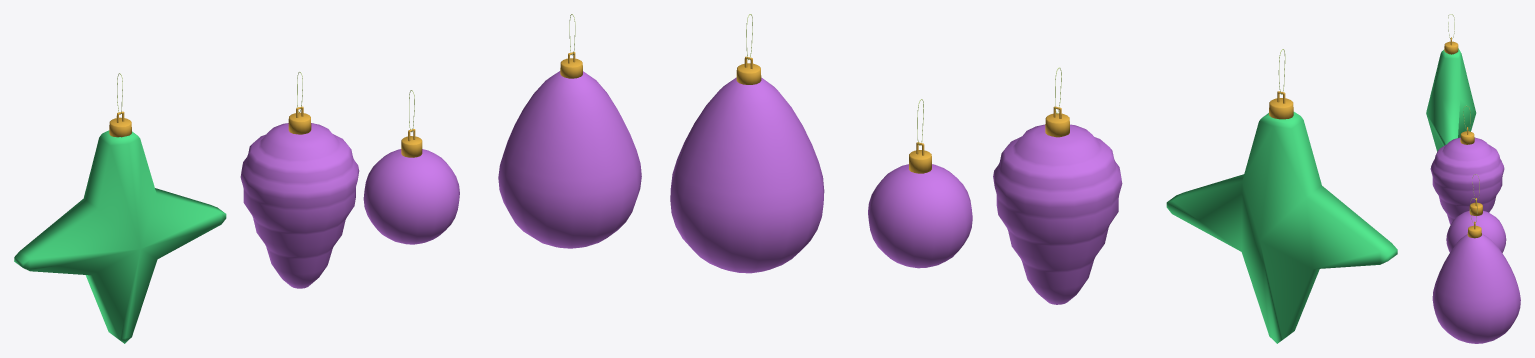
File: toystar.fbx_Collection.fbx
The picture shows the model from 3 angles, left to right: view 1: azimuth 30°, elevation 25°; view 2: azimuth 150°, elevation 25°; view 3: azimuth 270°, elevation 25°; orthographic projection. The views are drawn at different scales.
Visible parts, largest first — view 1: baloon, STAR, christmastoy1, christmastoy, kant.002, kant.001; view 2: baloon, STAR, christmastoy1, christmastoy, kant.002, kant.001, kant.003; view 3: baloon, christmastoy1, STAR, christmastoy, kant.002, kant.004, kant.001, kant.003.
Boxes of the visible parts, x1,y1,x2,y2 form: baloon: [498, 71, 641, 248]; STAR: [14, 130, 226, 343]; christmastoy1: [240, 123, 359, 288]; christmastoy: [363, 149, 459, 244]; kant.002: [288, 106, 311, 134]; kant.001: [401, 129, 422, 157]; baloon: [670, 77, 824, 273]; STAR: [1166, 112, 1397, 343]; christmastoy1: [993, 124, 1122, 304]; christmastoy: [868, 164, 972, 268]; kant.002: [1045, 106, 1069, 137]; kant.001: [909, 142, 931, 173]; kant.003: [736, 56, 761, 84]; baloon: [1432, 234, 1520, 343]; christmastoy1: [1430, 137, 1504, 224]; STAR: [1426, 48, 1476, 151]; christmastoy: [1446, 210, 1506, 252]; kant.002: [1460, 127, 1474, 144]; kant.004: [1444, 37, 1458, 54]; kant.001: [1469, 198, 1482, 215]; kant.003: [1467, 221, 1481, 238].
Bounding box in the file's own units: 3.47 × 1.56 × 0.727.
